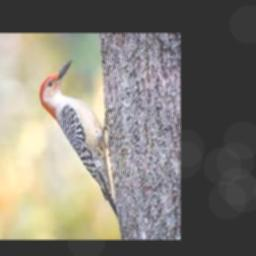Woodpecker: (39, 60, 119, 219)
